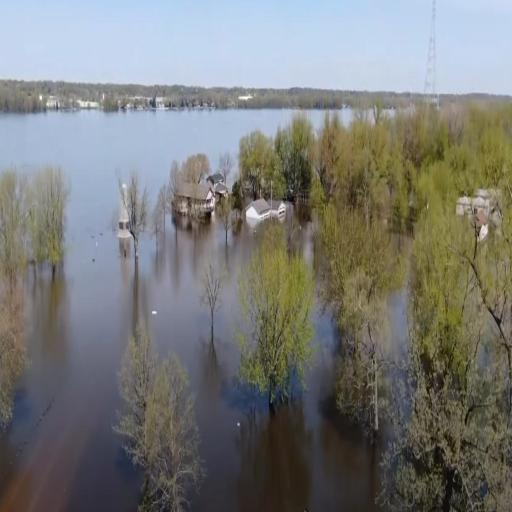flood: (0, 108, 393, 510), (386, 288, 409, 361), (308, 108, 327, 132), (329, 108, 354, 126)
house: (171, 166, 230, 230), (245, 194, 288, 229)
